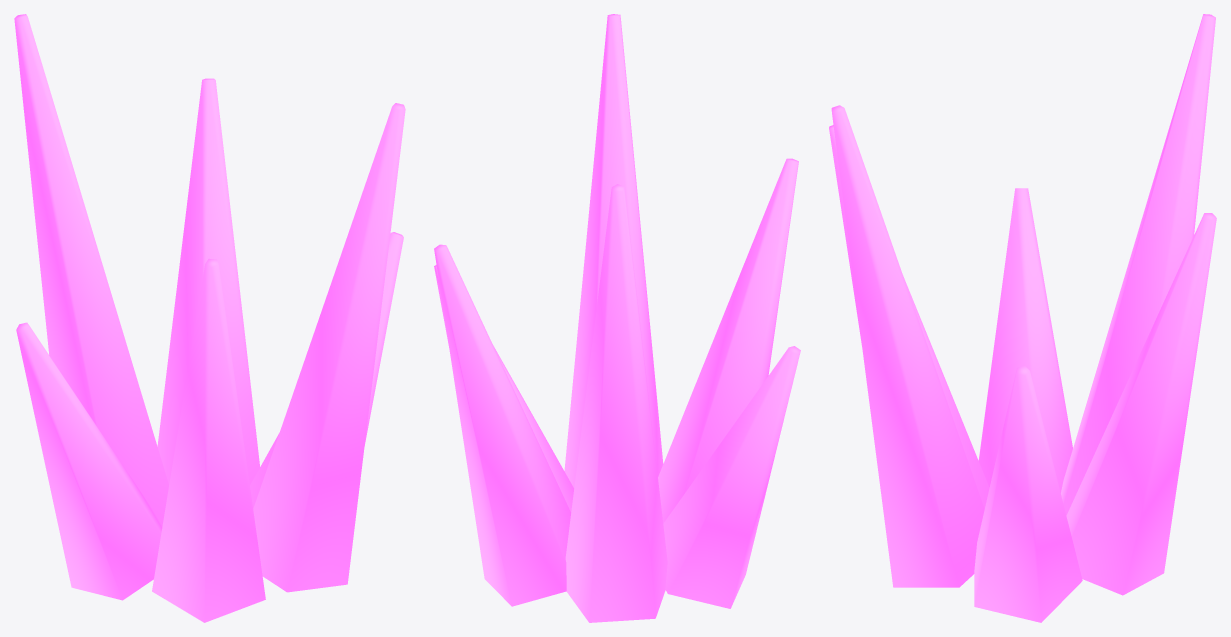
The model's file is orb_shard_cluster.glb.
3 renders of one model, left to right at view 1: azimuth 30°, elevation 25°; view 2: azimuth 150°, elevation 25°; view 3: azimuth 270°, elevation 25°, orthographic. The views are drawn at different scales.
Parts seen in each view (by area): view 1: GD_orb_shard_cluster__m0; view 2: GD_orb_shard_cluster__m0; view 3: GD_orb_shard_cluster__m0.
Boxes of the visible parts, x1,y1,x2,y2 form: GD_orb_shard_cluster__m0: [14, 14, 405, 622]; GD_orb_shard_cluster__m0: [434, 14, 800, 622]; GD_orb_shard_cluster__m0: [829, 14, 1216, 622].
Bounding box in the file's own units: 0.1853 × 0.2298 × 0.1618.
